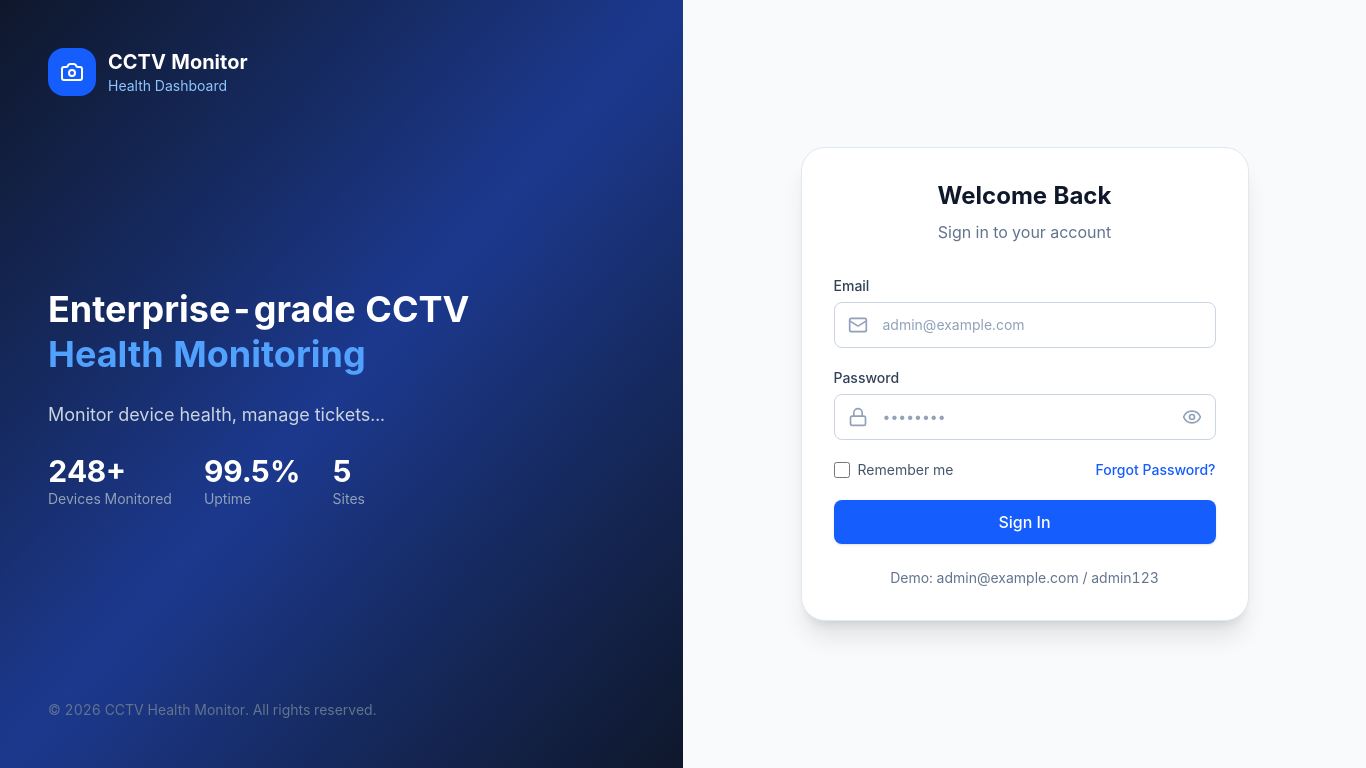
Test: AuthFlow — Login Form › shows error when password is too short (basic policy)
Type "test@test.com" into the field with placeholder "admin@example.com" at (1024, 325), box [834,302,1216,348]
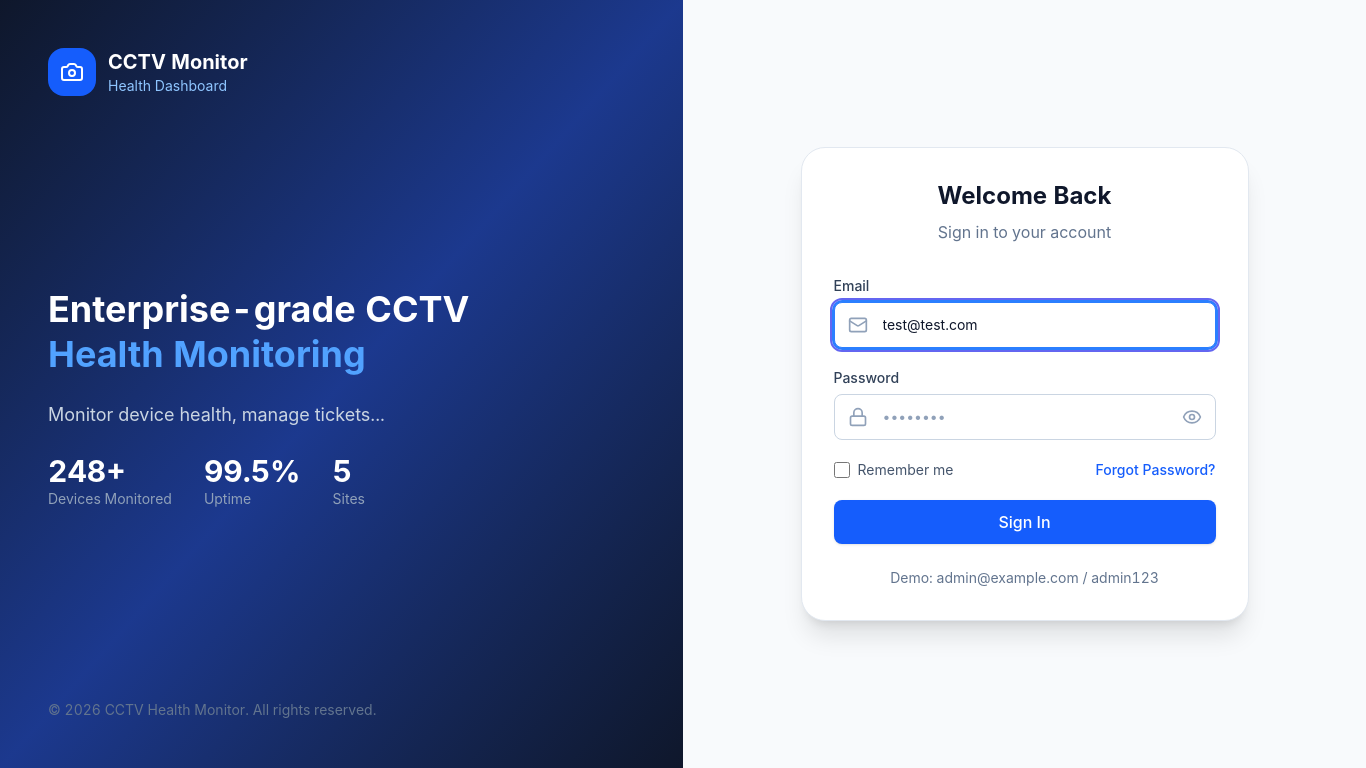
Type "abc12" into the password field with placeholder "••••••••" at (1024, 417), box [834,394,1216,440]
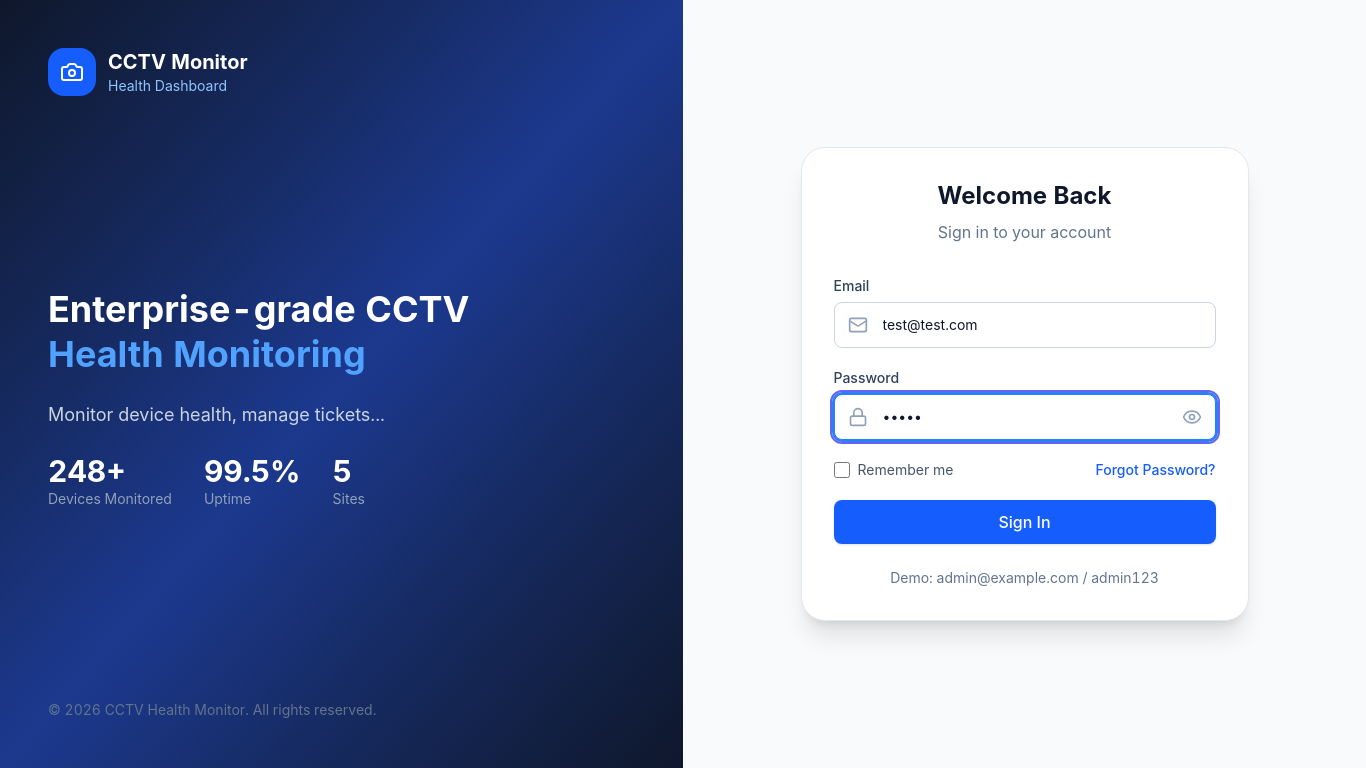
Click the button "Sign In" at (1024, 522), box [834,500,1216,544]
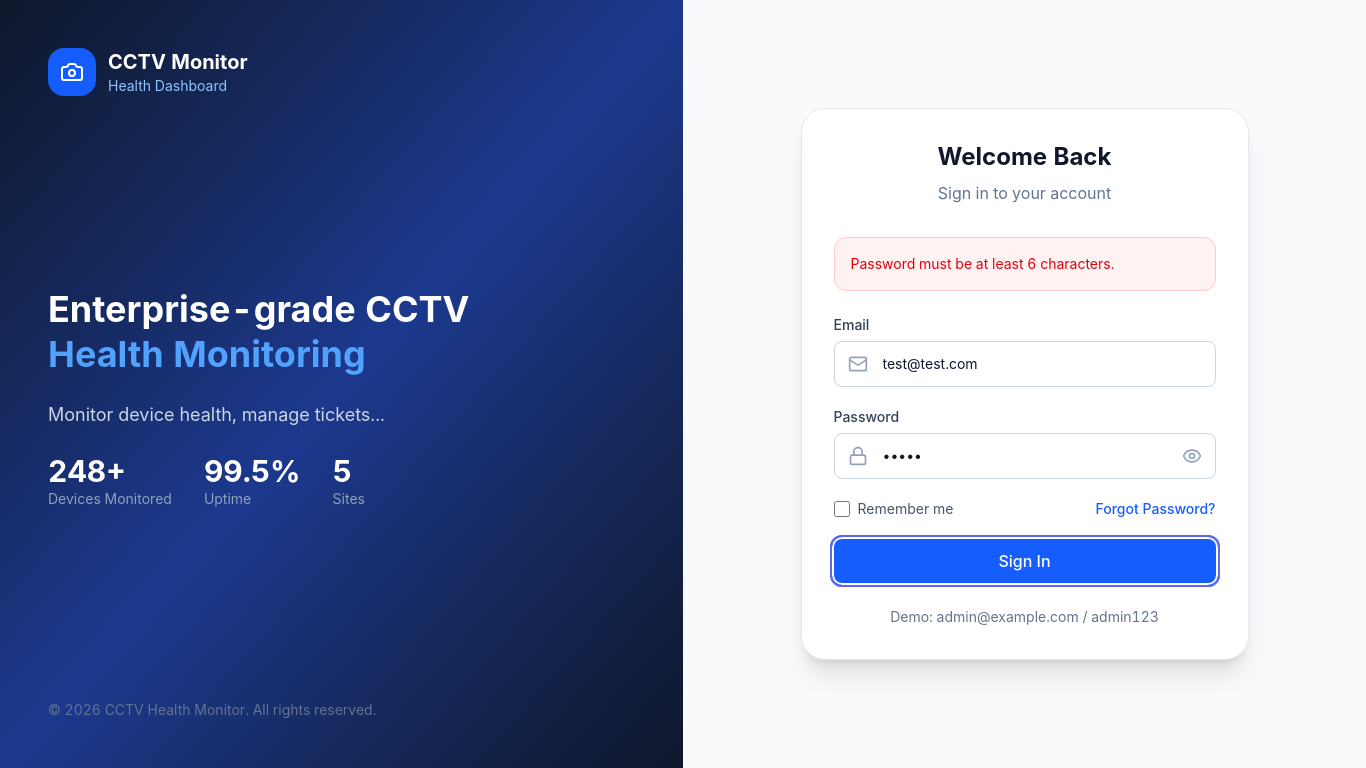
Result: the text "Password must be at least 6 characters." is shown at [834,237,1216,291]
